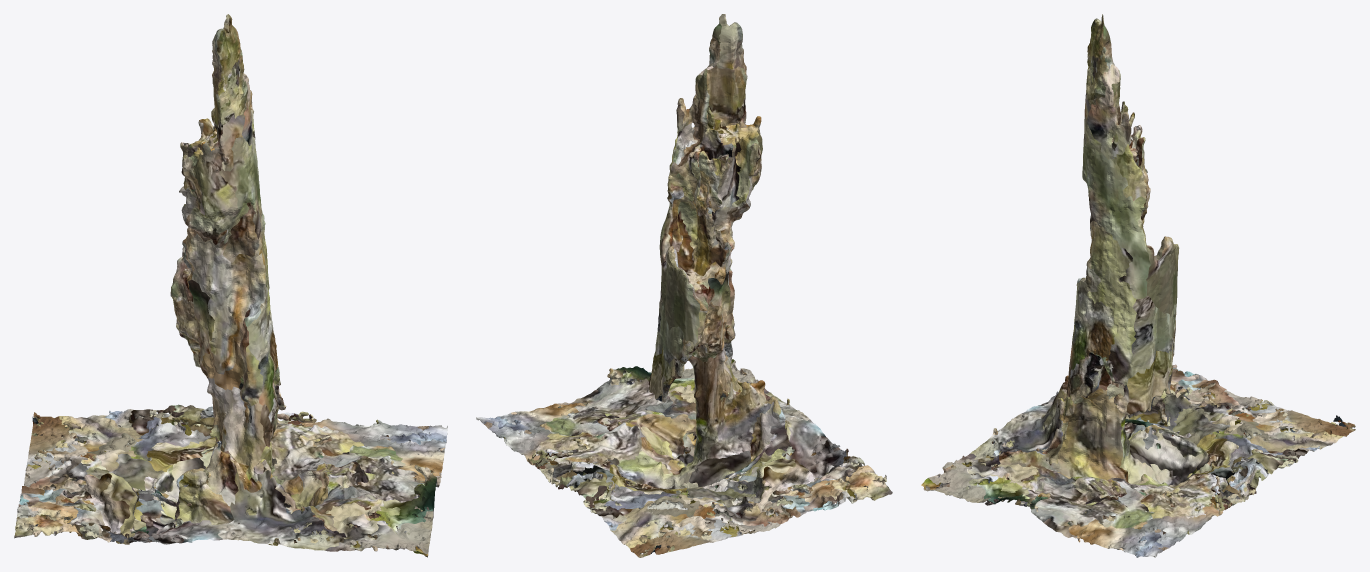
The model's file is mushy.glb.
The picture shows the model from 3 angles, left to right: view 1: azimuth 30°, elevation 25°; view 2: azimuth 150°, elevation 25°; view 3: azimuth 270°, elevation 25°; orthographic projection. The views are drawn at different scales.
Visible parts, largest first — view 1: textured; view 2: textured; view 3: textured.
Boxes of the visible parts, <box> form: textured: <box>14,14,447,557</box>; textured: <box>476,14,892,557</box>; textured: <box>921,14,1355,557</box>.
Size of the model in its own units: 1.45 by 1.63 by 1.38.
1 material, 1 textured.
